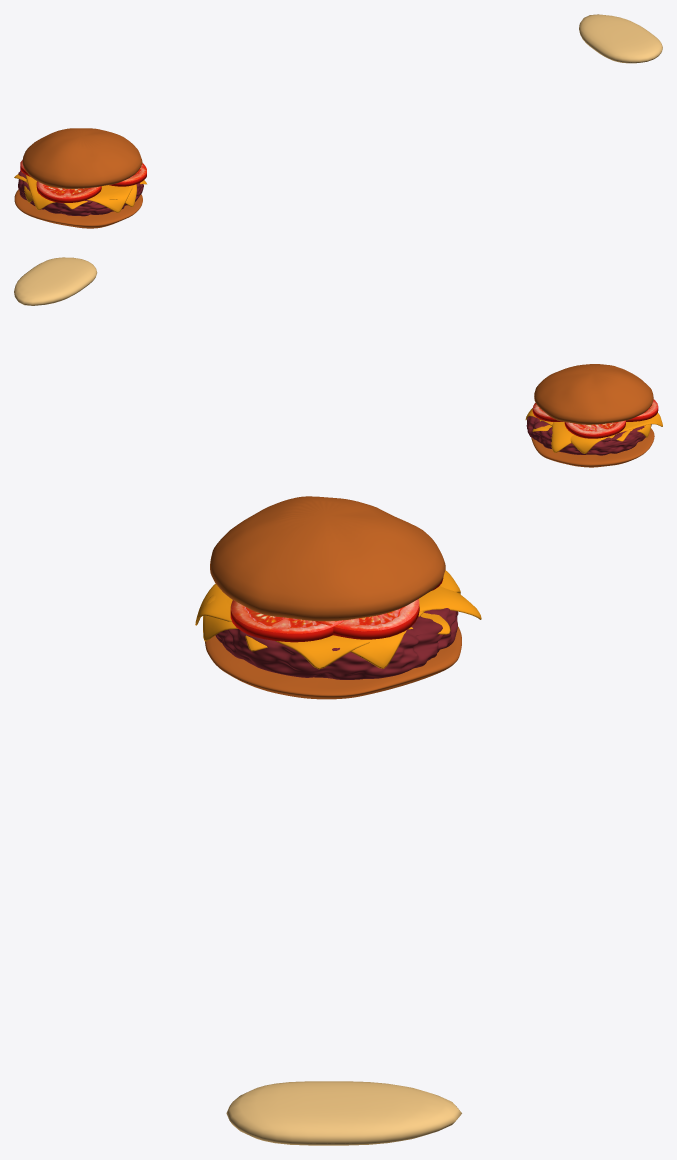
Rendered from BurgerCompletePlain.fbx.
3 views of the same model, one above another, from view 1: azimuth 30°, elevation 25°; view 2: azimuth 150°, elevation 25°; view 3: azimuth 270°, elevation 25° (orthographic). The views are drawn at different scales.
Visible parts, largest first — view 1: Top Bun, Seeds, Bottom Bun, Patty, Tomato, Cheese1, Cheese2; view 2: Top Bun, Seeds, Bottom Bun, Patty, Tomato.002, Cheese2, Cheese1; view 3: Top Bun, Seeds, Patty, Bottom Bun, Cheese1, Tomato.003, Tomato.001, Cheese2.
Part boxes in pixels (x1,y1,x2,y2): Top Bun: [22, 128, 142, 188]; Seeds: [579, 14, 662, 63]; Bottom Bun: [14, 189, 142, 228]; Patty: [18, 170, 143, 216]; Tomato: [36, 181, 101, 202]; Cheese1: [24, 180, 132, 212]; Cheese2: [25, 175, 136, 210]; Top Bun: [534, 364, 653, 424]; Seeds: [14, 257, 97, 305]; Bottom Bun: [531, 428, 654, 467]; Patty: [526, 416, 651, 455]; Tomato.002: [564, 420, 625, 438]; Cheese2: [525, 408, 662, 453]; Cheese1: [551, 421, 651, 452]; Top Bun: [210, 496, 445, 621]; Seeds: [226, 1081, 461, 1145]; Patty: [215, 608, 458, 679]; Bottom Bun: [205, 626, 461, 699]; Cheese1: [195, 583, 481, 669]; Tomato.003: [230, 600, 343, 642]; Tomato.001: [315, 599, 419, 639]; Cheese2: [203, 570, 460, 668].
Bounding box in the file's own units: 2109 × 243 × 421.
Materials: 15 (5 with a texture image).
